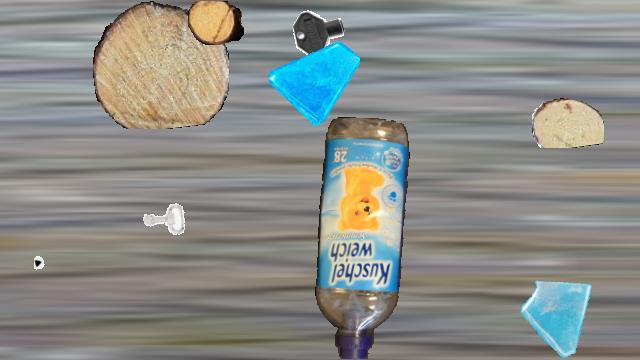glass: (269, 35, 359, 125), (519, 273, 605, 359)
metal: (34, 238, 96, 300), (289, 1, 351, 63), (137, 193, 189, 245)
plastic: (314, 117, 412, 359)
wood: (93, 1, 229, 129), (532, 98, 604, 148), (188, 1, 244, 45)
